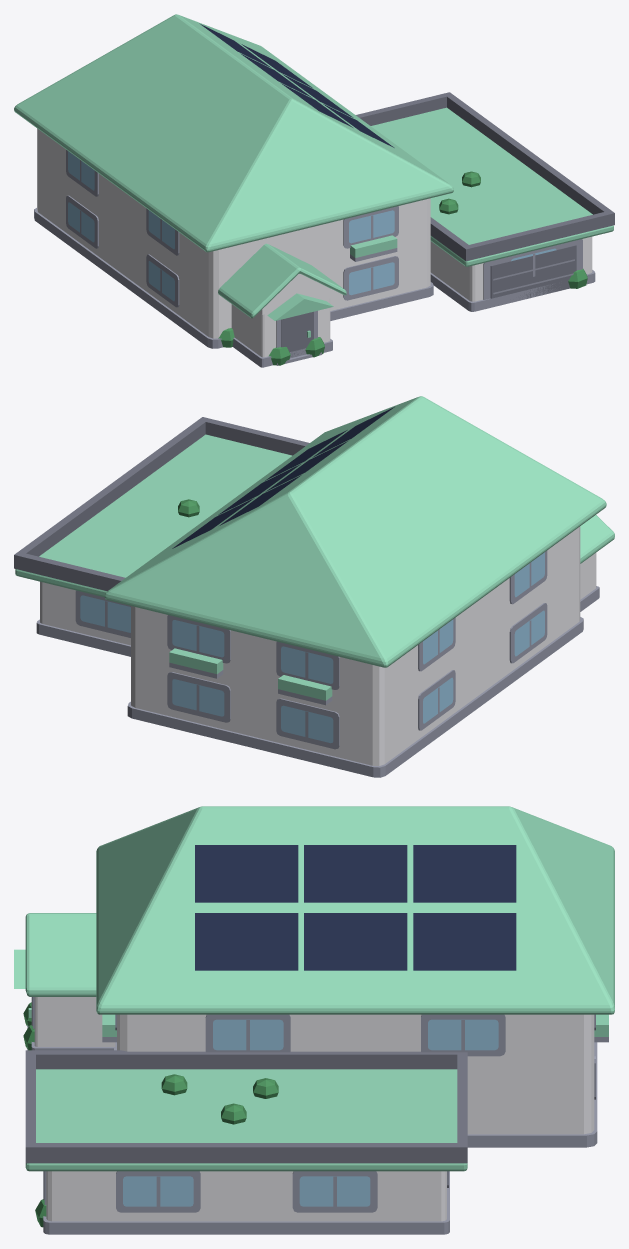
Rendered from house-2x2-2f-mansard-a-solar.glb.
3 views of the same model, one above another, from view 1: azimuth 30°, elevation 25°; view 2: azimuth 150°, elevation 25°; view 3: azimuth 270°, elevation 25° (orthographic). The views are drawn at different scales.
Visible parts, largest first — view 1: house-2x2-2f-mansard-a-solar; view 2: house-2x2-2f-mansard-a-solar; view 3: house-2x2-2f-mansard-a-solar.
Boxes of the visible parts, x1,y1,x2,y2 form: house-2x2-2f-mansard-a-solar: (14,14,614,367); house-2x2-2f-mansard-a-solar: (14,396,614,777); house-2x2-2f-mansard-a-solar: (14,806,614,1234).
Size of the model in its own units: 2 by 1 by 2.04.
1 material, 1 textured.
